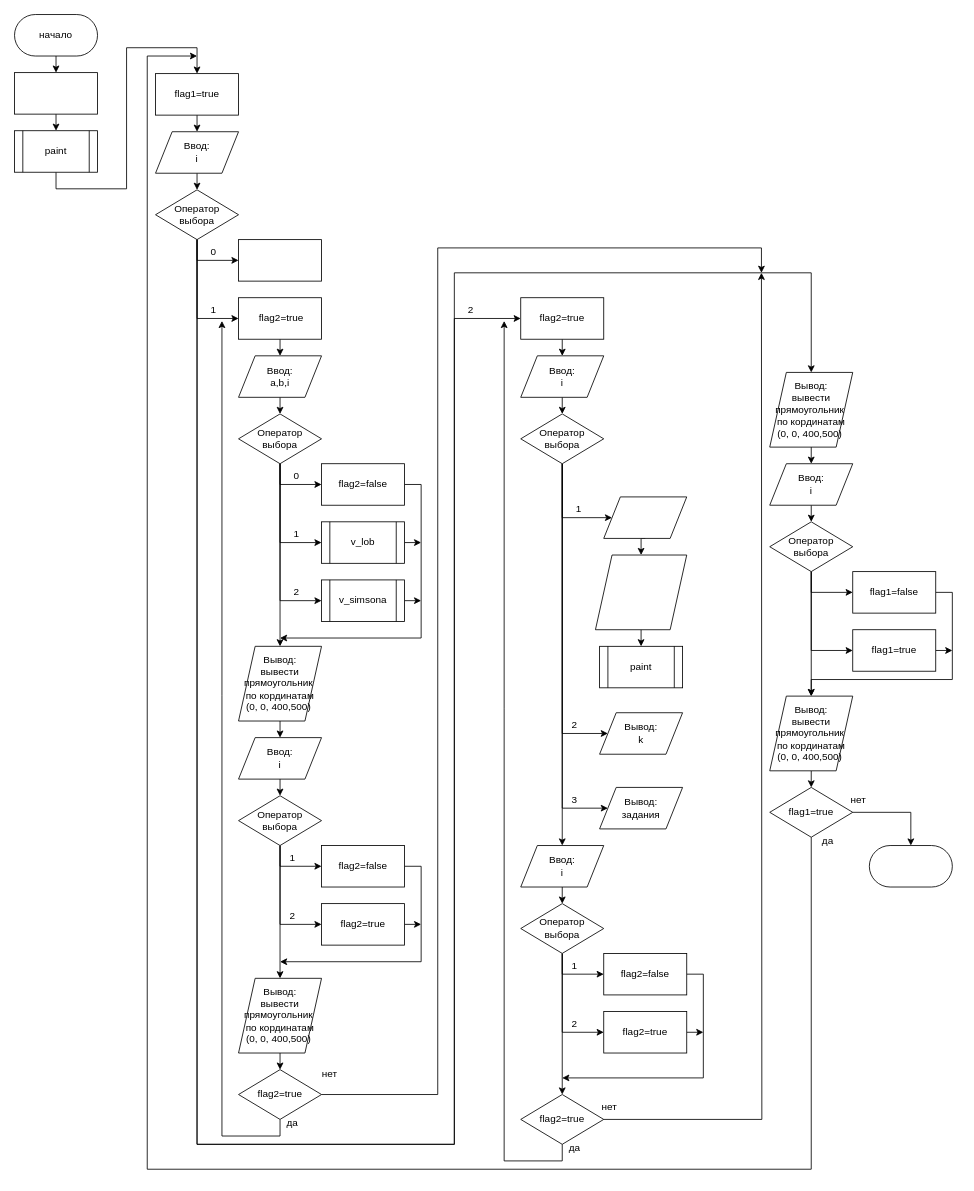
This 974x1191 diagram has some shape labels left out. The shapes that lost their labels are listed below. From the top down, each one's centre as x and y in pixels, then its label:
At point 56,93: "k = 10".
At point 280,260: "закрить окно".
At point 645,517: "Ввод: k".
At point 641,592: "Вывод: вывести прямоугольник по кординатам (400, 0, 1000,500)".
At point 910,866: "конец".
